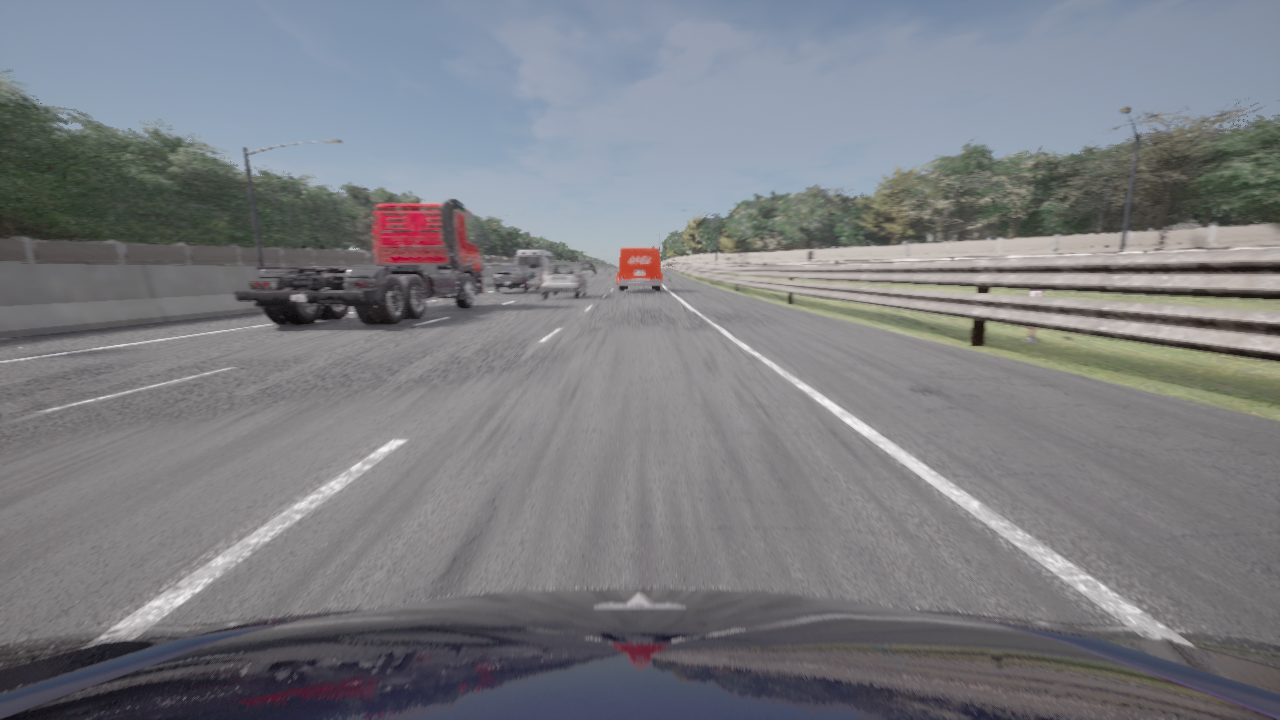cyclist: (0, 588, 1279, 719), (235, 198, 485, 325), (617, 249, 662, 291), (541, 263, 587, 298), (516, 249, 554, 283), (493, 266, 540, 293), (579, 260, 597, 274)
pedestrian: (1021, 290, 1043, 343), (84, 262, 89, 263)
